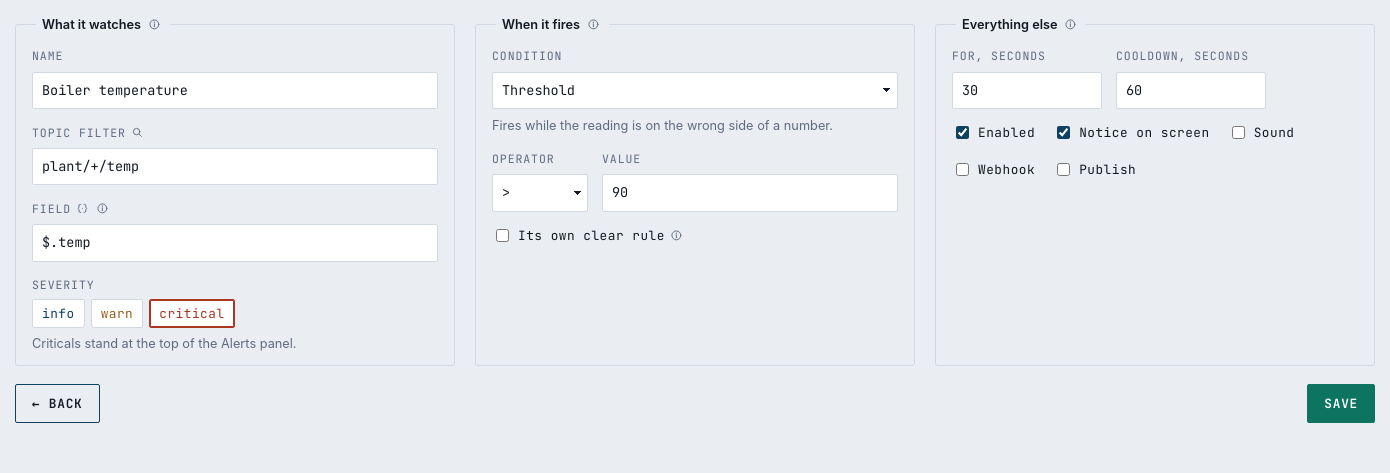
Test: what the editor refuses before the request › refuses a rule with no name, and says which field it means
Clear the field labelled "Name". click: (235, 90)
box: [32,72,438,109]
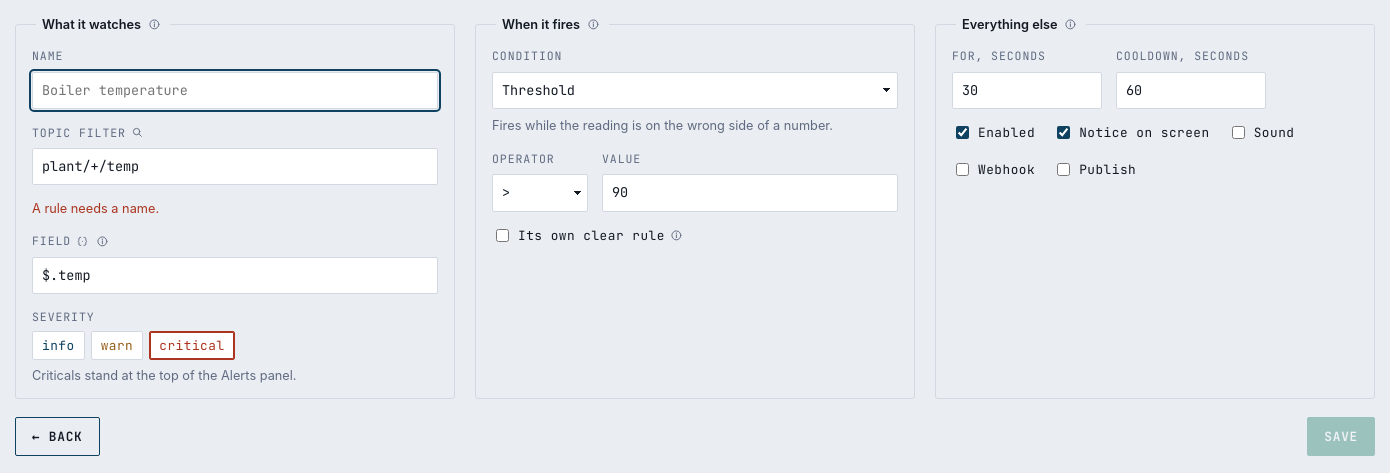
Expected: the button "Save" is disabled, [1307,417,1375,456]
